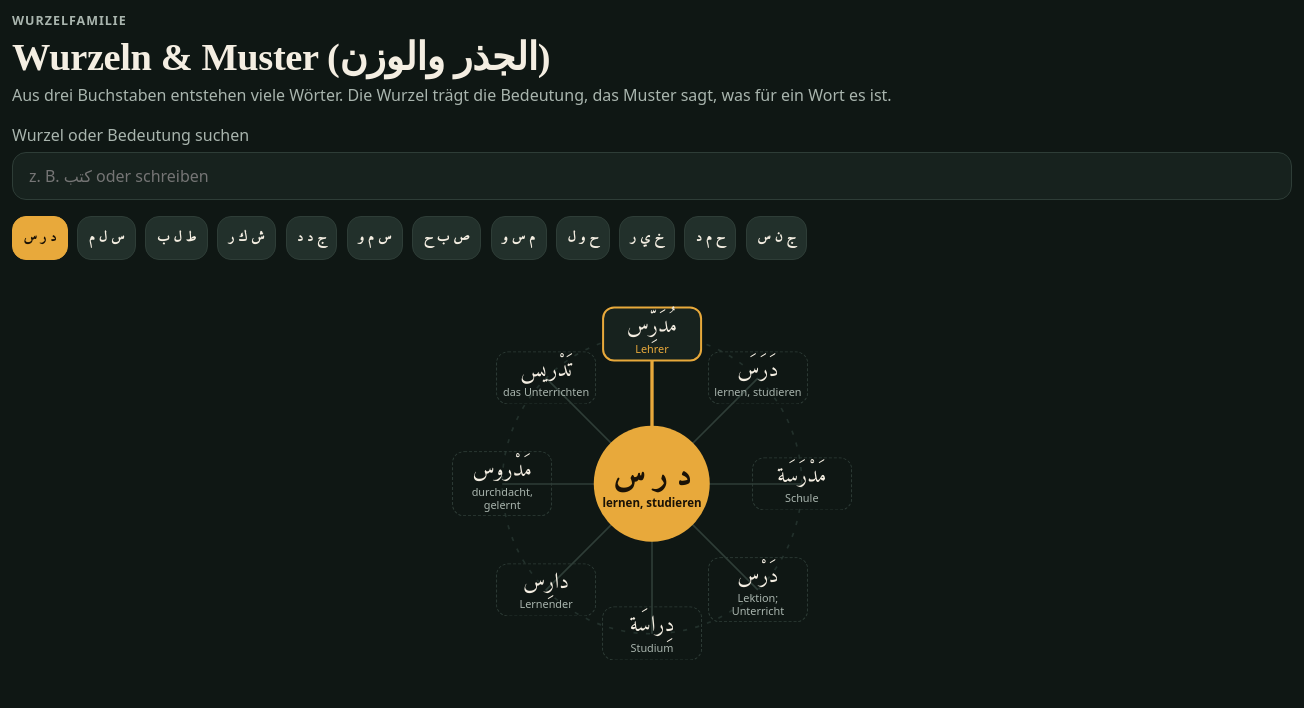
Test: Root families (integration) › finds roots by German meaning and says when there is none
Type "Lehrer" into the search field.
click(652, 176); type("Lehrer")  # box [12, 152, 1292, 200]
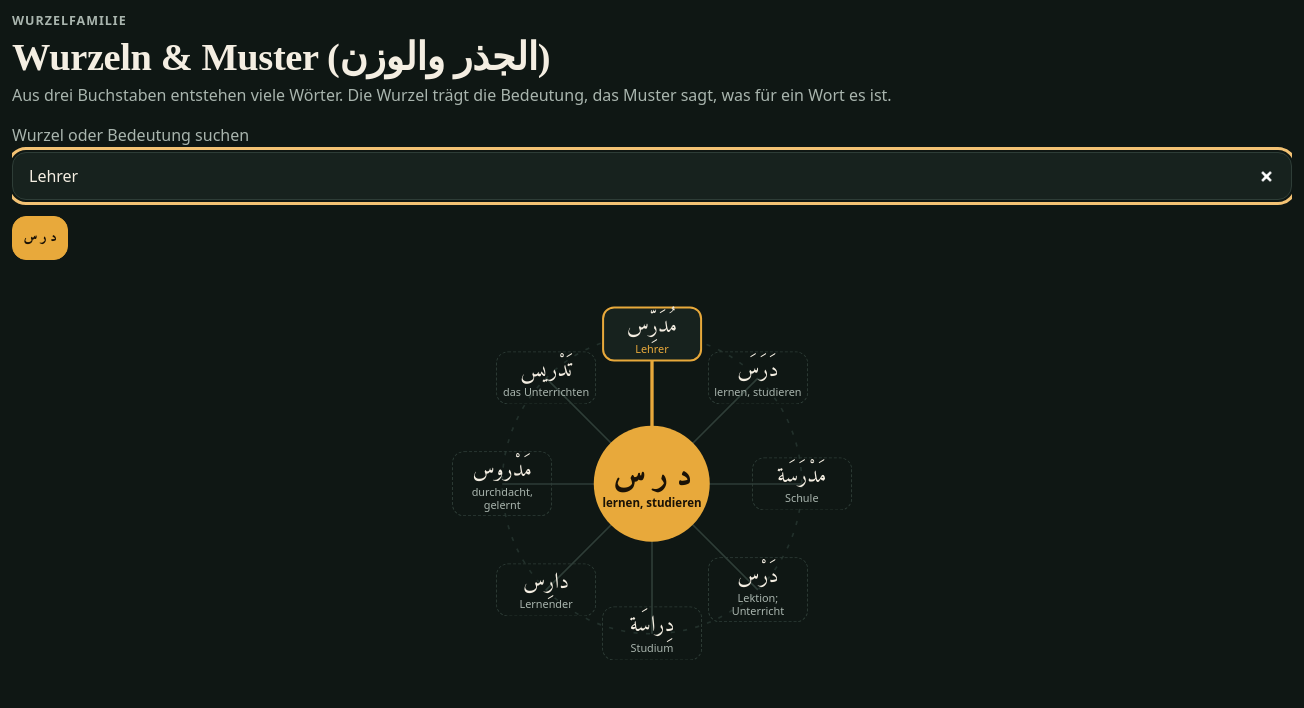
Expected: the button "د ر س" is shown, [12, 216, 68, 260]
A meaning of several words keeps its spaces.
Replace the text in the search field with "Friede; Begrüßung" at (652, 176), box [12, 152, 1292, 200]
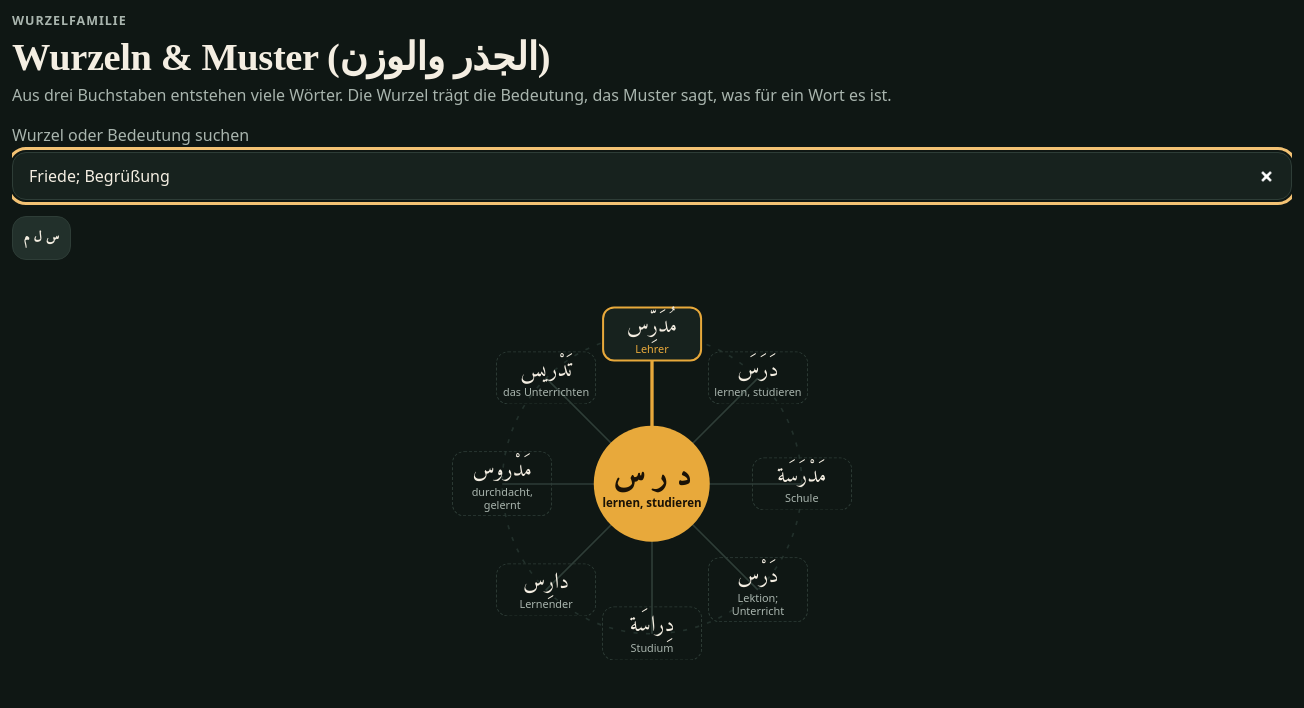
Now the button "س ل م" is shown, box [12, 216, 70, 260]
Replace the text in the search field with "xyz" at (652, 176), box [12, 152, 1292, 200]
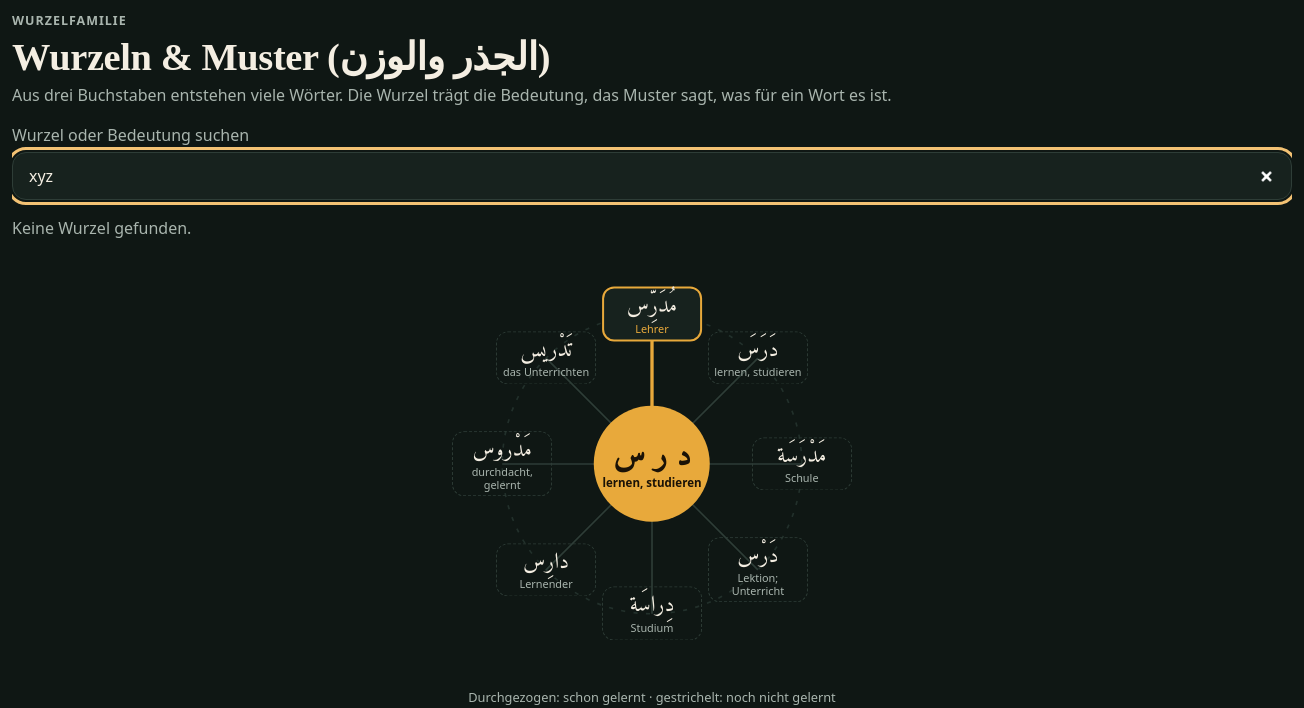
Now the text "Keine Wurzel gefunden." is shown, box [12, 216, 191, 240]
